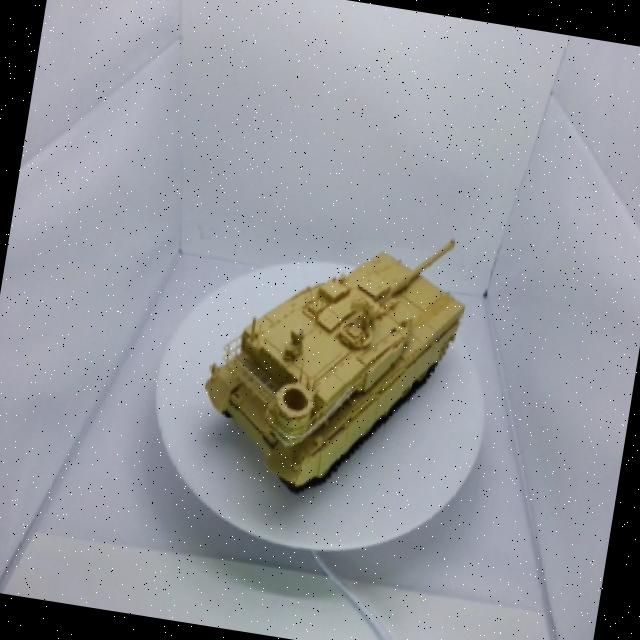korea tank: (172, 182, 514, 530)
